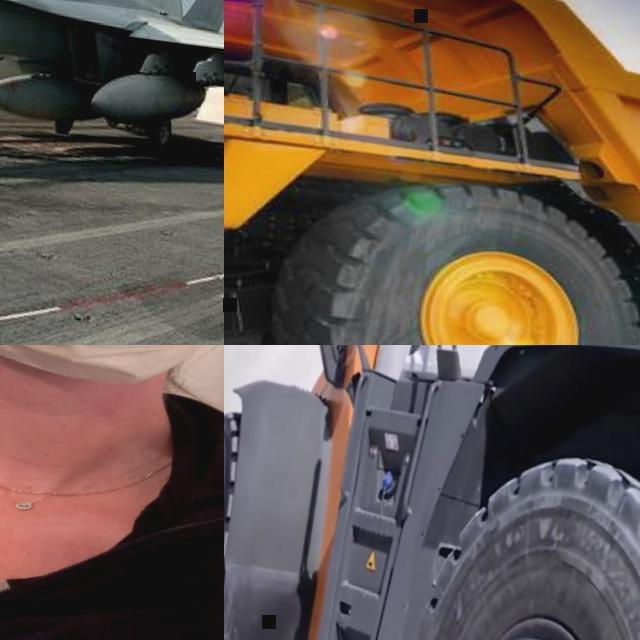machinery: (224, 0, 640, 345), (224, 345, 640, 640)
no_vest: (0, 380, 224, 640)
person: (0, 345, 224, 640)
